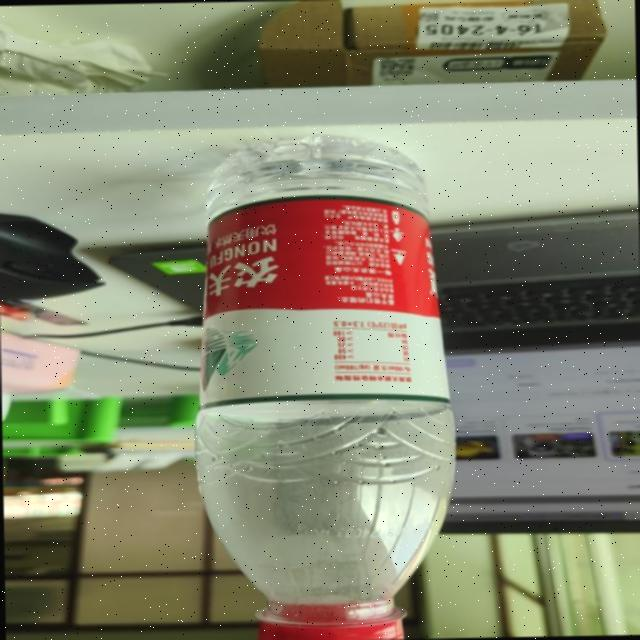bottle: (178, 125, 458, 640)
cap: (248, 601, 415, 640)
label: (176, 205, 453, 392)
